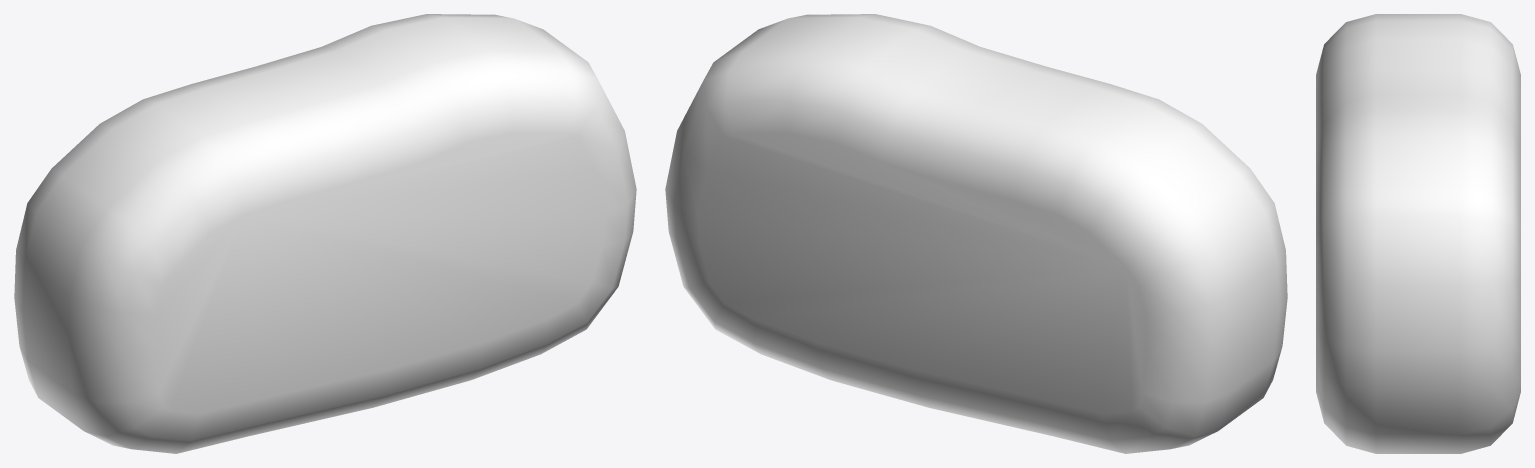
The model's file is Symbol-.fbx.
3 views of the same model, side by side, from view 1: azimuth 30°, elevation 25°; view 2: azimuth 150°, elevation 25°; view 3: azimuth 270°, elevation 25° (orthographic). The views are drawn at different scales.
Parts seen in each view (by area): view 1: Vert.011; view 2: Vert.011; view 3: Vert.011.
Boxes of the visible parts, box(x1,y1,x2,y2) form: Vert.011: box(14, 14, 636, 453); Vert.011: box(665, 14, 1287, 453); Vert.011: box(1316, 14, 1520, 453).
Bounding box in the file's own units: 220 × 121 × 73.91.
